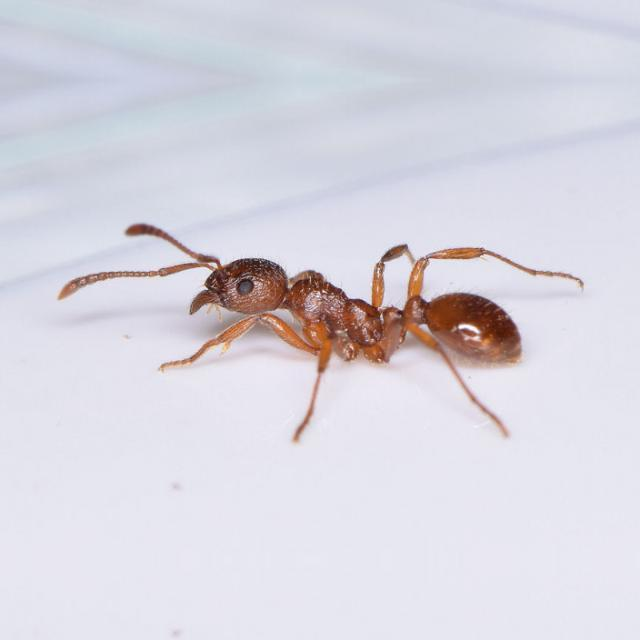Myrmica: (82, 166, 594, 428)
